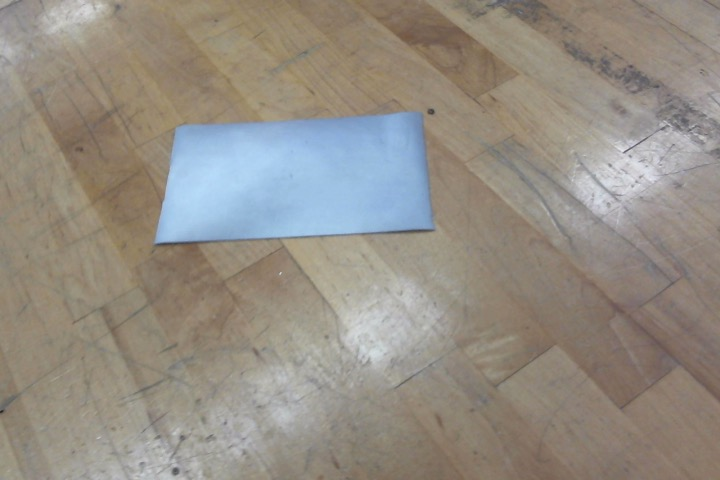Tape: (153, 112, 435, 244)
